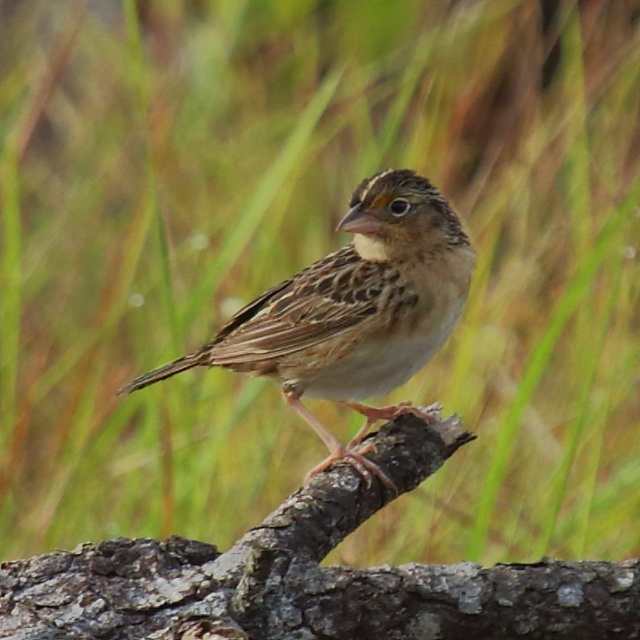Sparrow: (115, 167, 480, 499)
